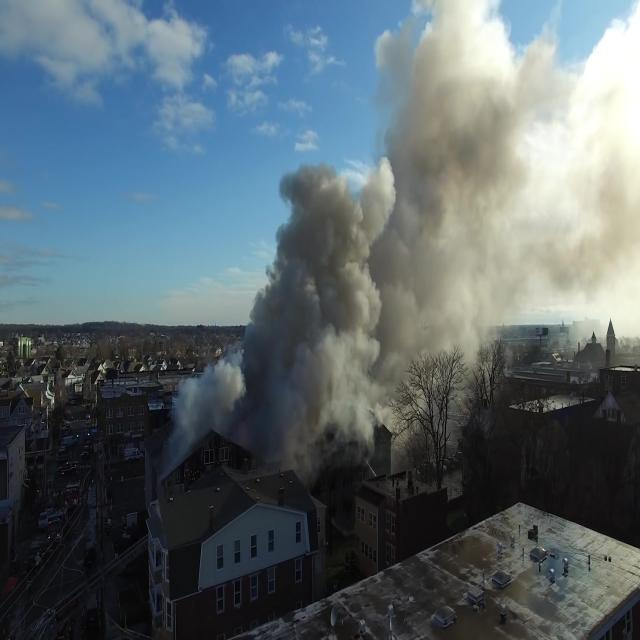Smoke: (178, 29, 617, 490)
